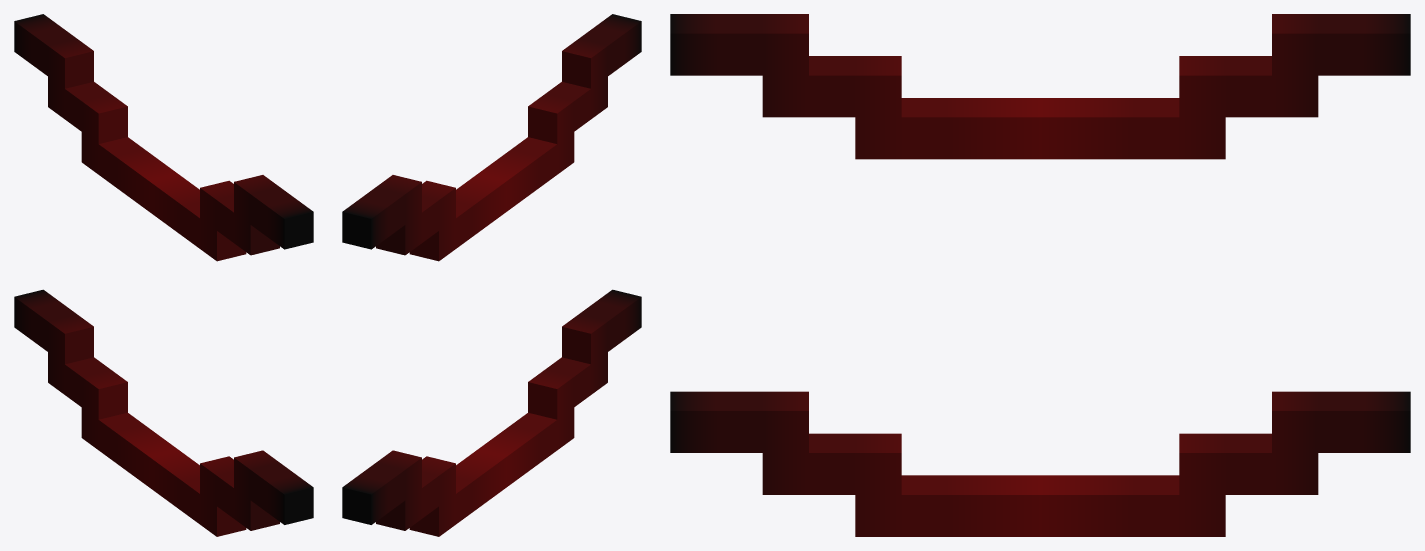
The model's file is ObpMD_Fence_Rope_Rope_s.gltf.
3 renders of one model, left to right at view 1: azimuth 30°, elevation 25°; view 2: azimuth 150°, elevation 25°; view 3: azimuth 270°, elevation 25°, orthographic. The views are drawn at different scales.
Visible parts, largest first — view 1: ObpMD_Fence_Rope_Rope_s; view 2: ObpMD_Fence_Rope_Rope_s; view 3: ObpMD_Fence_Rope_Rope_s.
Boxes of the visible parts, box(x1,y1,x2,y2) form: ObpMD_Fence_Rope_Rope_s: box(14, 14, 313, 536); ObpMD_Fence_Rope_Rope_s: box(342, 14, 641, 536); ObpMD_Fence_Rope_Rope_s: box(670, 14, 1410, 536).
Bounding box in the file's own units: 0.0625 × 0.75 × 1.
